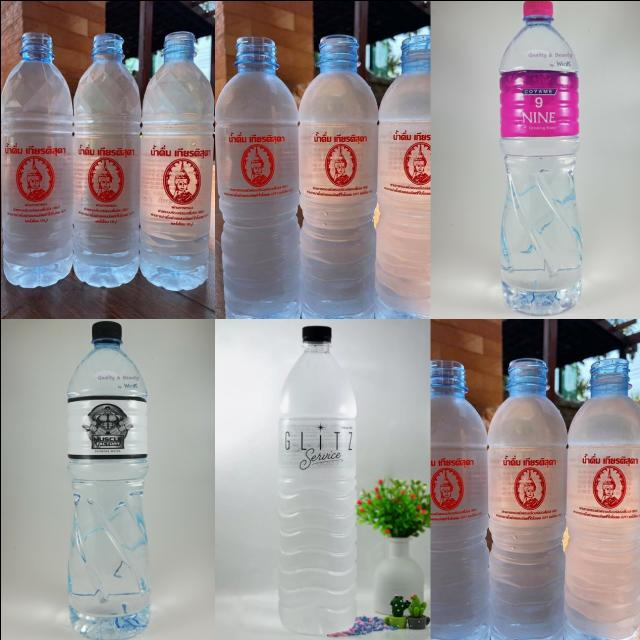plastik: (67, 321, 150, 639), (499, 0, 581, 314), (214, 36, 300, 317), (278, 325, 356, 633), (487, 357, 567, 640), (298, 34, 377, 317), (564, 357, 640, 640), (139, 31, 213, 289), (0, 32, 72, 287), (72, 32, 140, 286), (429, 359, 488, 640), (375, 34, 430, 317)
